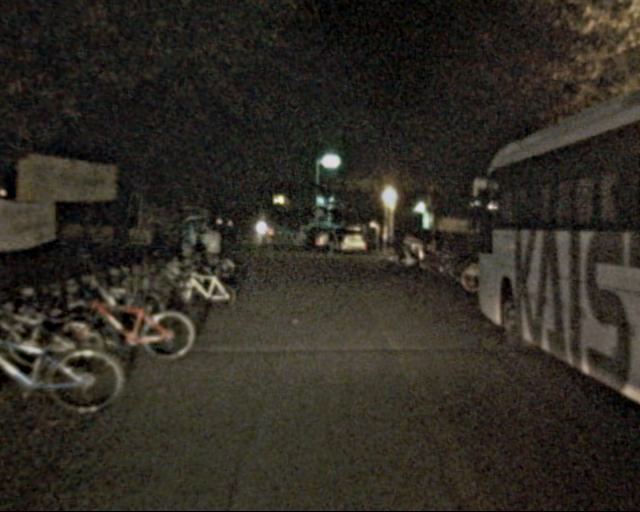person: (196, 222, 221, 284), (322, 230, 336, 264), (305, 230, 318, 262)
